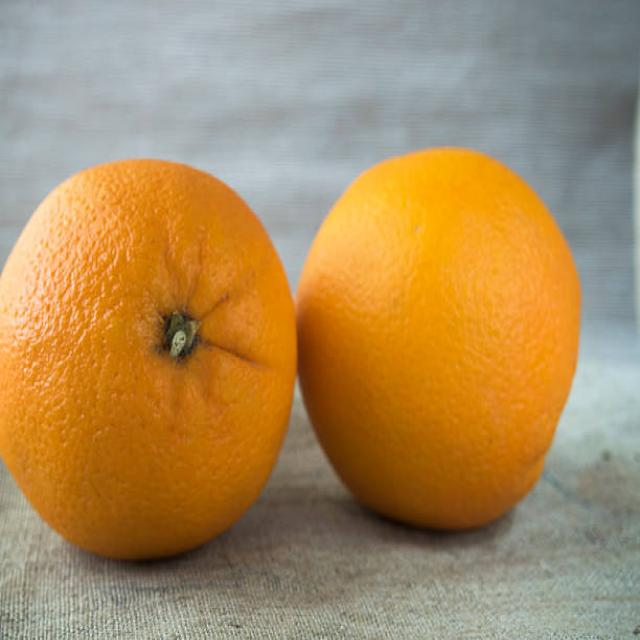Ripe: (0, 157, 294, 570), (293, 143, 588, 537)
